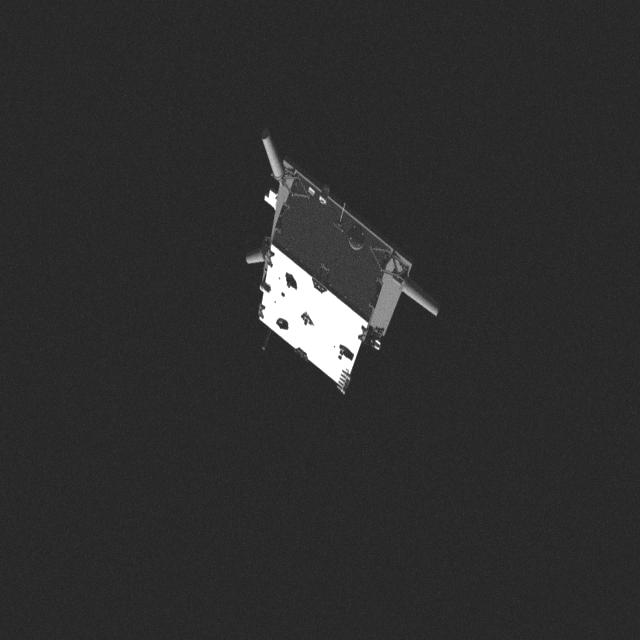medium_debris: (230, 130, 442, 392)
